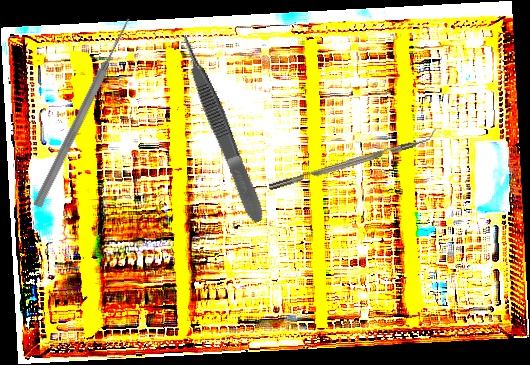Chopper: (265, 127, 440, 191)
Pusher: (31, 16, 135, 209)
Tissue Forceps: (176, 31, 268, 226)
